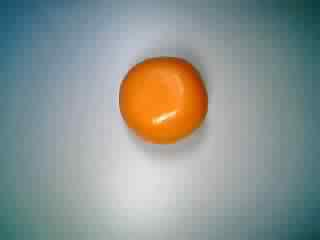orange: (113, 52, 210, 150)
